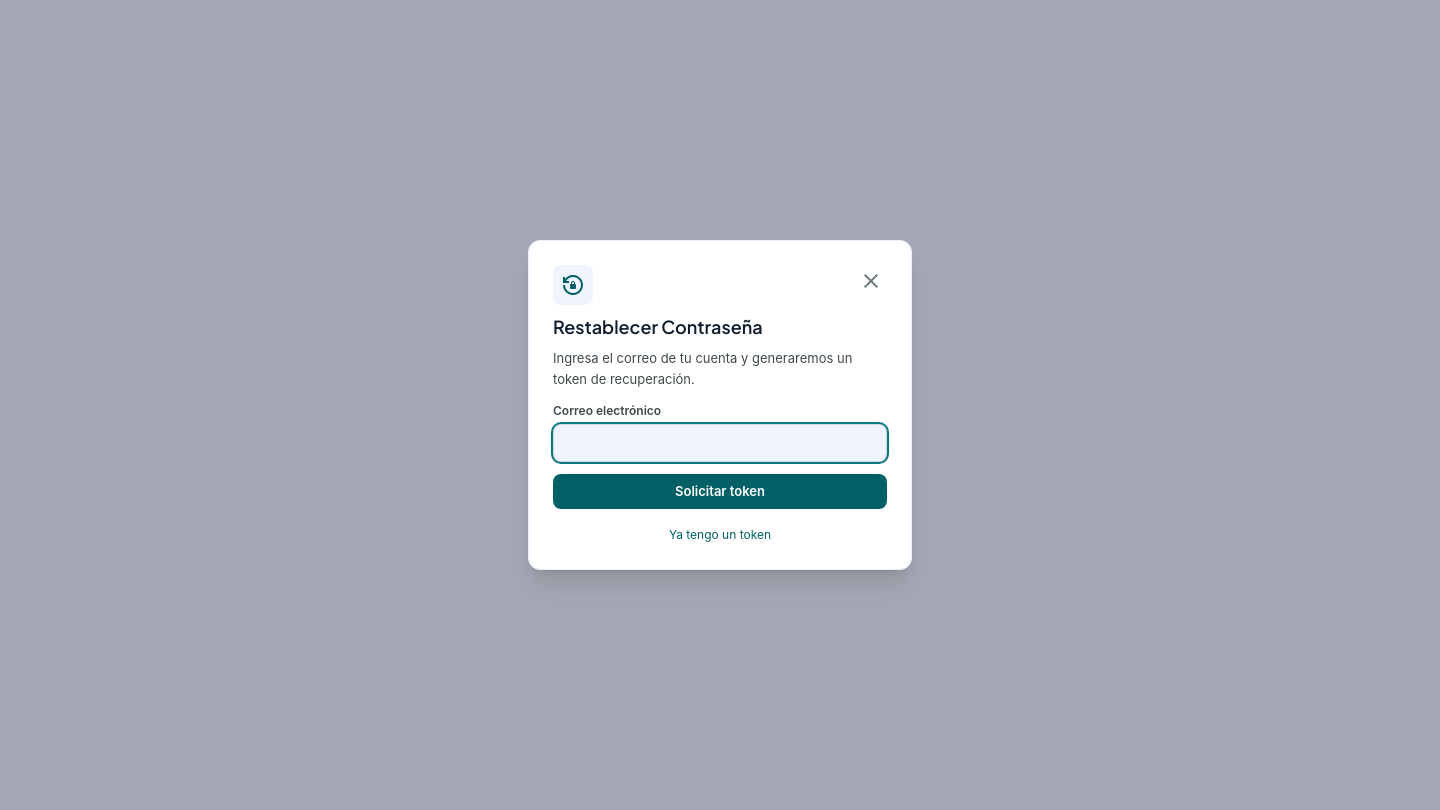
it: PasswordRecoveryModal (HU-003) › solicita el token y luego confirma la nueva contraseña
Type "paciente1@demo.invalid" into the field labelled "Correo electrónico".
click(720, 443); type("paciente1@demo.invalid")  # box [553,424,887,462]
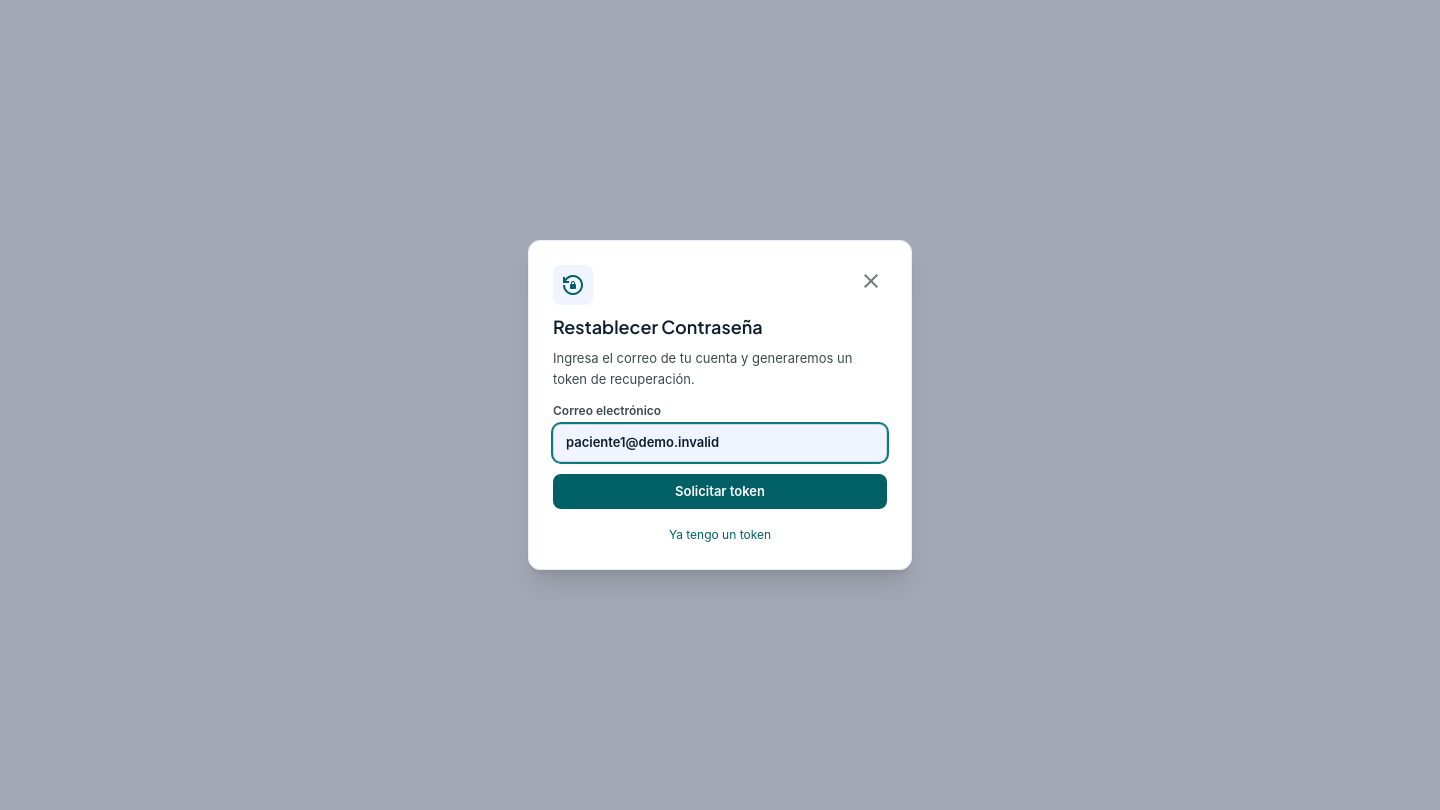
Click the button "Solicitar token".
click(720, 491)  # box [553,474,887,509]
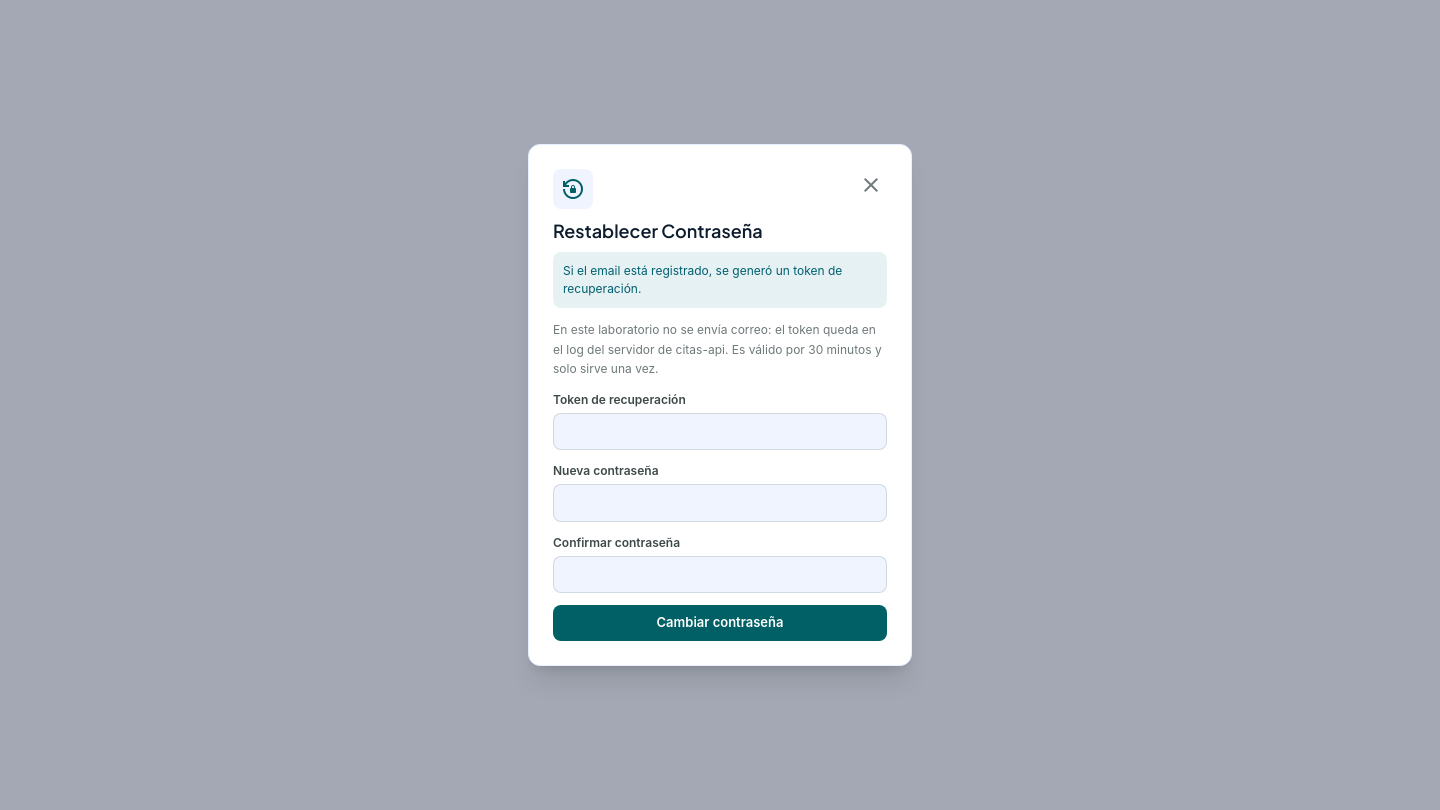
Expected: the text "se generó un token de recuperación" is shown, [563,263,842,296]
Type "abc123" into the field labelled "Token de recuperación".
click(720, 432); type("abc123")  # box [553,413,887,450]
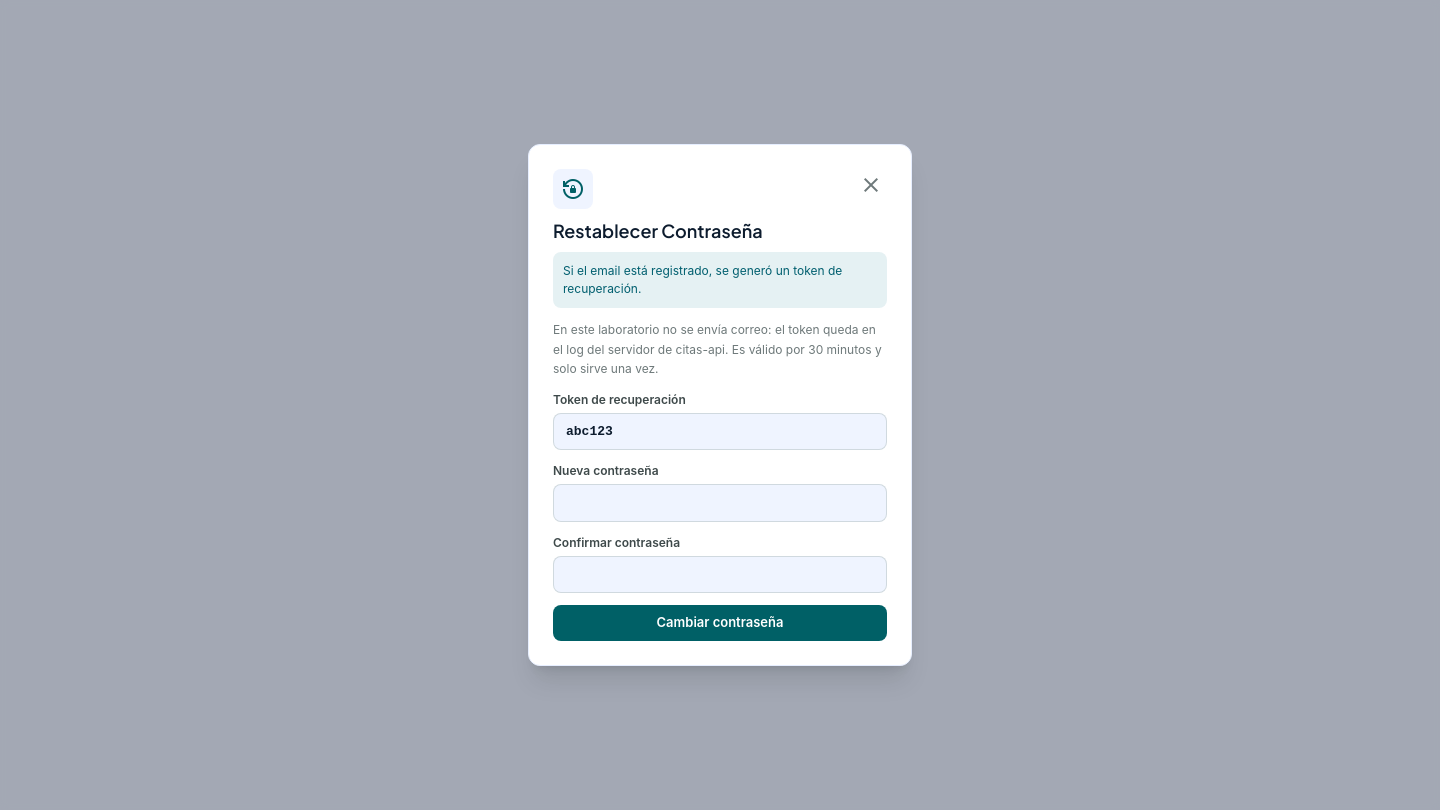
Type "NuevaClave2026*" into the password field labelled "Nueva contraseña".
click(720, 503); type("NuevaClave2026*")  # box [553,484,887,522]
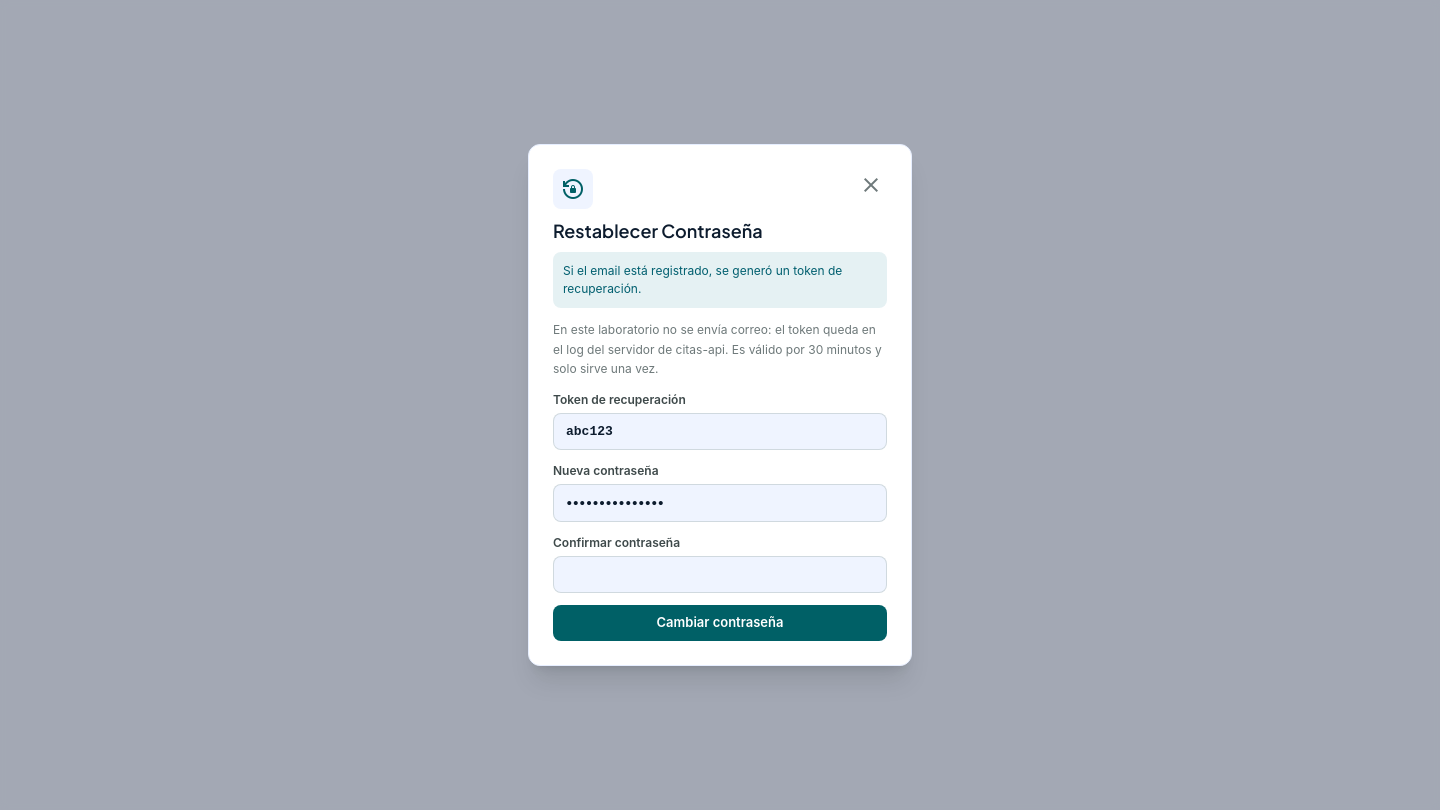
Type "NuevaClave2026*" into the password field labelled "Confirmar contraseña".
click(720, 575); type("NuevaClave2026*")  # box [553,556,887,593]
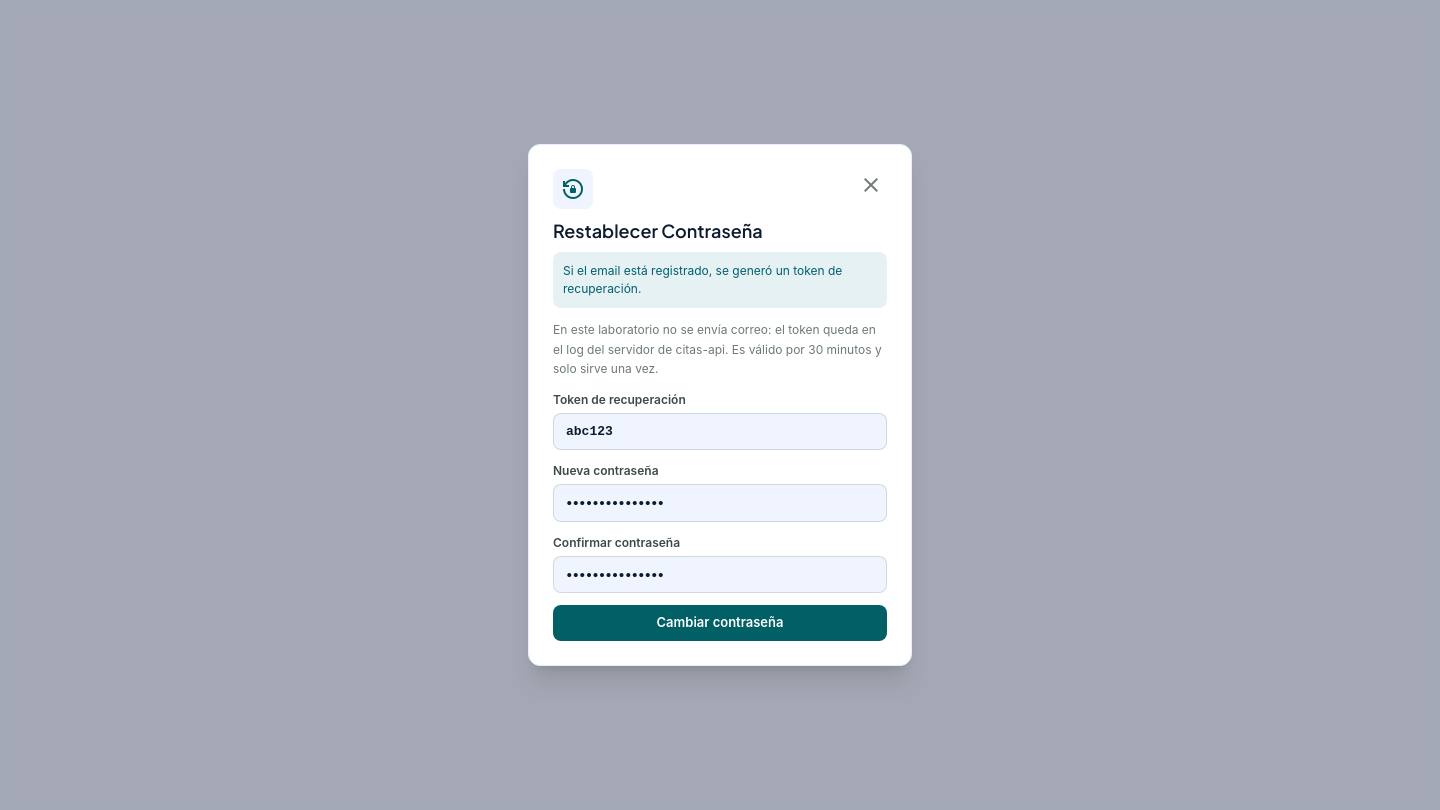
Click the button "Cambiar contraseña".
click(720, 623)  # box [553,605,887,641]
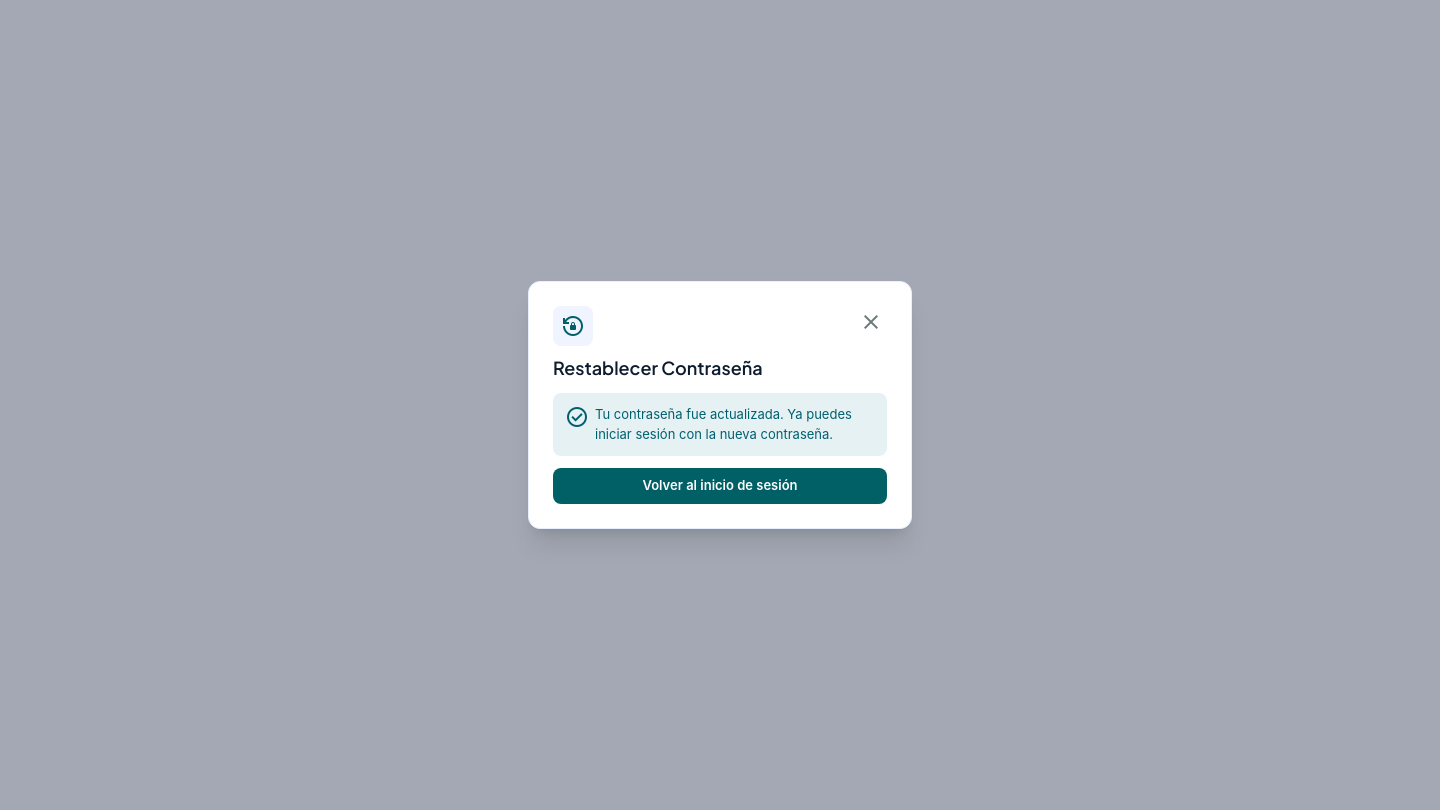
Expected: the text "Tu contraseña fue actualizada" is shown, [595,406,852,442]
